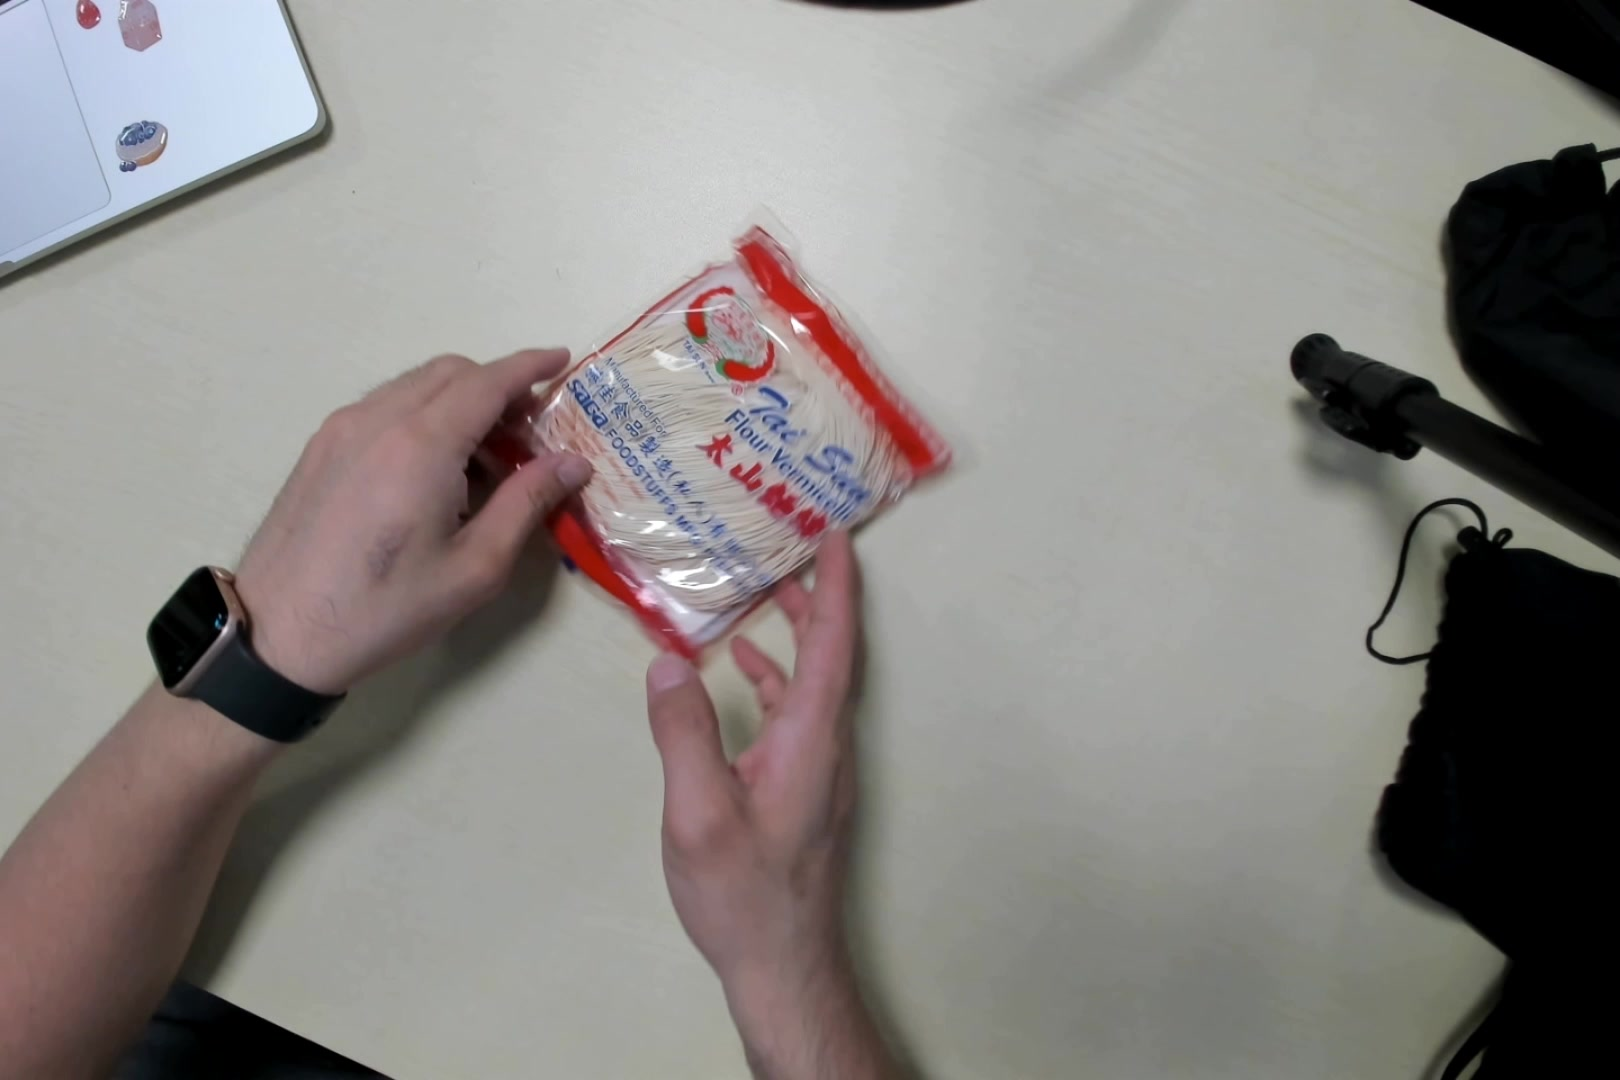BeeHoonVermicelli_100-199g_Halal_NonHealthy: (485, 224, 943, 661)
